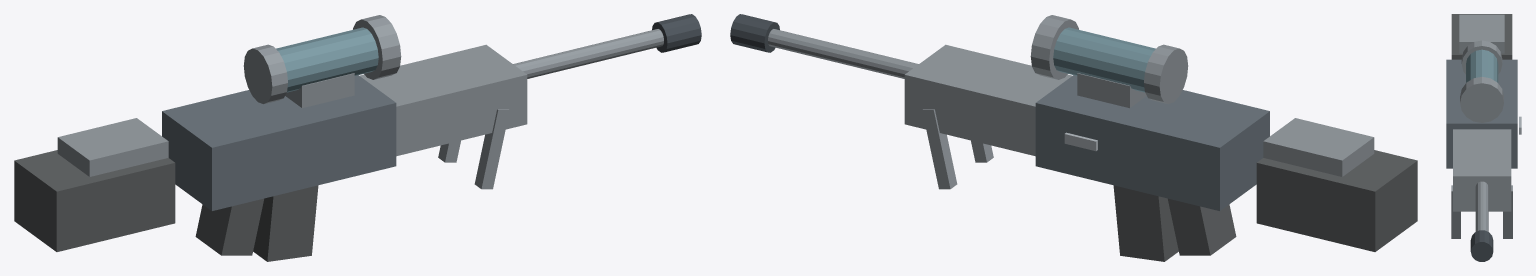
File: classic-dmr.glb
The picture shows the model from 3 angles, left to right: view 1: azimuth 30°, elevation 25°; view 2: azimuth 150°, elevation 25°; view 3: azimuth 270°, elevation 25°; orthographic projection. The views are drawn at different scales.
Visible parts, largest first — view 1: RECEIVER, BUTTSTOCK, HANDGUARD, CHEEK_REST, SCOPE_TUBE, MAGAZINE, GRIP, LONG_BARREL, SCOPE_REAR_RING, SCOPE_FRONT_RING, BIPOD_LEG_R, SCOPE_MOUNT (+1 smaller); view 2: RECEIVER, BUTTSTOCK, HANDGUARD, CHEEK_REST, SCOPE_TUBE, MAGAZINE, GRIP, LONG_BARREL, SCOPE_REAR_RING, SCOPE_FRONT_RING, BIPOD_LEG_L, SCOPE_MOUNT (+2 smaller); view 3: HANDGUARD, RECEIVER, SCOPE_FRONT_RING, CHEEK_REST, BUTTSTOCK, SCOPE_TUBE, LONG_BARREL, MUZZLE_BRAKE, SCOPE_REAR_RING, BIPOD_LEG_L, BIPOD_LEG_R.
Part boxes in pixels (bbox=[...]): RECEIVER: bbox=[162, 75, 396, 210]; BUTTSTOCK: bbox=[14, 150, 175, 251]; HANDGUARD: bbox=[359, 44, 527, 156]; CHEEK_REST: bbox=[57, 118, 168, 176]; SCOPE_TUBE: bbox=[276, 27, 378, 92]; MAGAZINE: bbox=[253, 185, 318, 261]; GRIP: bbox=[195, 198, 263, 255]; LONG_BARREL: bbox=[513, 29, 663, 78]; SCOPE_REAR_RING: bbox=[243, 44, 287, 104]; SCOPE_FRONT_RING: bbox=[353, 15, 401, 79]; BIPOD_LEG_R: bbox=[474, 109, 509, 189]; SCOPE_MOUNT: bbox=[285, 73, 354, 108]; RECEIVER: bbox=[1035, 75, 1269, 210]; BUTTSTOCK: bbox=[1256, 150, 1417, 251]; HANDGUARD: bbox=[904, 44, 1072, 156]; CHEEK_REST: bbox=[1263, 118, 1374, 176]; SCOPE_TUBE: bbox=[1053, 27, 1155, 92]; MAGAZINE: bbox=[1113, 185, 1178, 261]; GRIP: bbox=[1168, 198, 1236, 255]; LONG_BARREL: bbox=[768, 29, 918, 78]; SCOPE_REAR_RING: bbox=[1144, 44, 1188, 104]; SCOPE_FRONT_RING: bbox=[1030, 15, 1078, 79]; BIPOD_LEG_L: bbox=[922, 109, 957, 189]; SCOPE_MOUNT: bbox=[1077, 73, 1146, 108]; HANDGUARD: bbox=[1453, 129, 1511, 211]; RECEIVER: bbox=[1446, 59, 1517, 168]; SCOPE_FRONT_RING: bbox=[1460, 77, 1503, 122]; CHEEK_REST: bbox=[1459, 14, 1504, 53]; BUTTSTOCK: bbox=[1451, 14, 1512, 59]; SCOPE_TUBE: bbox=[1466, 49, 1498, 82]; LONG_BARREL: bbox=[1475, 181, 1488, 231]; MUZZLE_BRAKE: bbox=[1470, 230, 1493, 261]; SCOPE_REAR_RING: bbox=[1461, 40, 1502, 74]; BIPOD_LEG_L: bbox=[1503, 185, 1512, 238]; BIPOD_LEG_R: bbox=[1451, 185, 1460, 238].
Bounding box in the file's own units: 2.5 × 0.7497 × 0.348.
